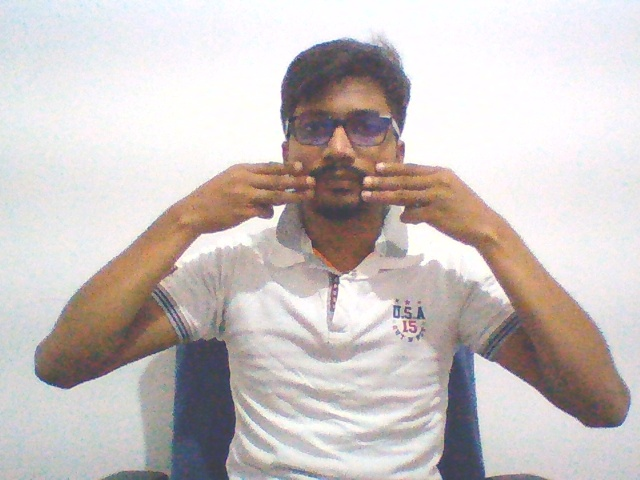cat: (166, 150, 505, 251)
